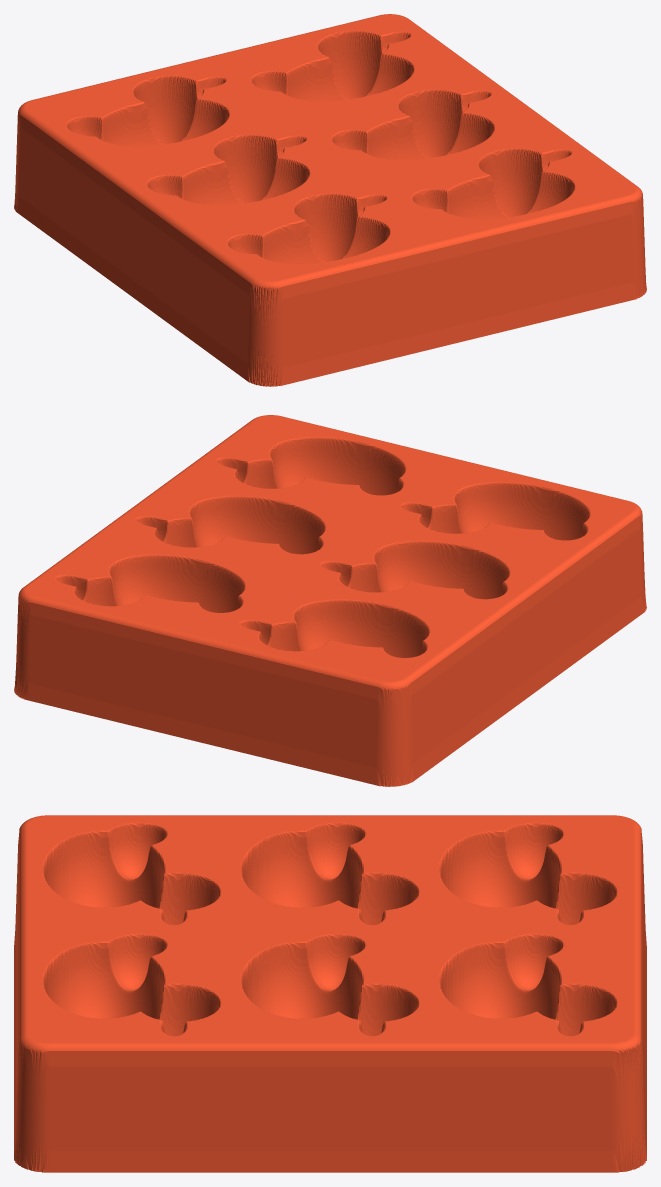
Rendered from mold.glb.
The picture shows the model from 3 angles, top to bottom: view 1: azimuth 30°, elevation 25°; view 2: azimuth 150°, elevation 25°; view 3: azimuth 270°, elevation 25°; orthographic projection. The views are drawn at different scales.
Parts seen in each view (by area): view 1: geometry_0; view 2: geometry_0; view 3: geometry_0.
Part boxes in pixels (x1,y1,x2,y2): geometry_0: (14,14,646,386); geometry_0: (14,415,646,786); geometry_0: (14,815,646,1172).
Size of the model in its own units: 0.1485 by 0.036 by 0.1666.
